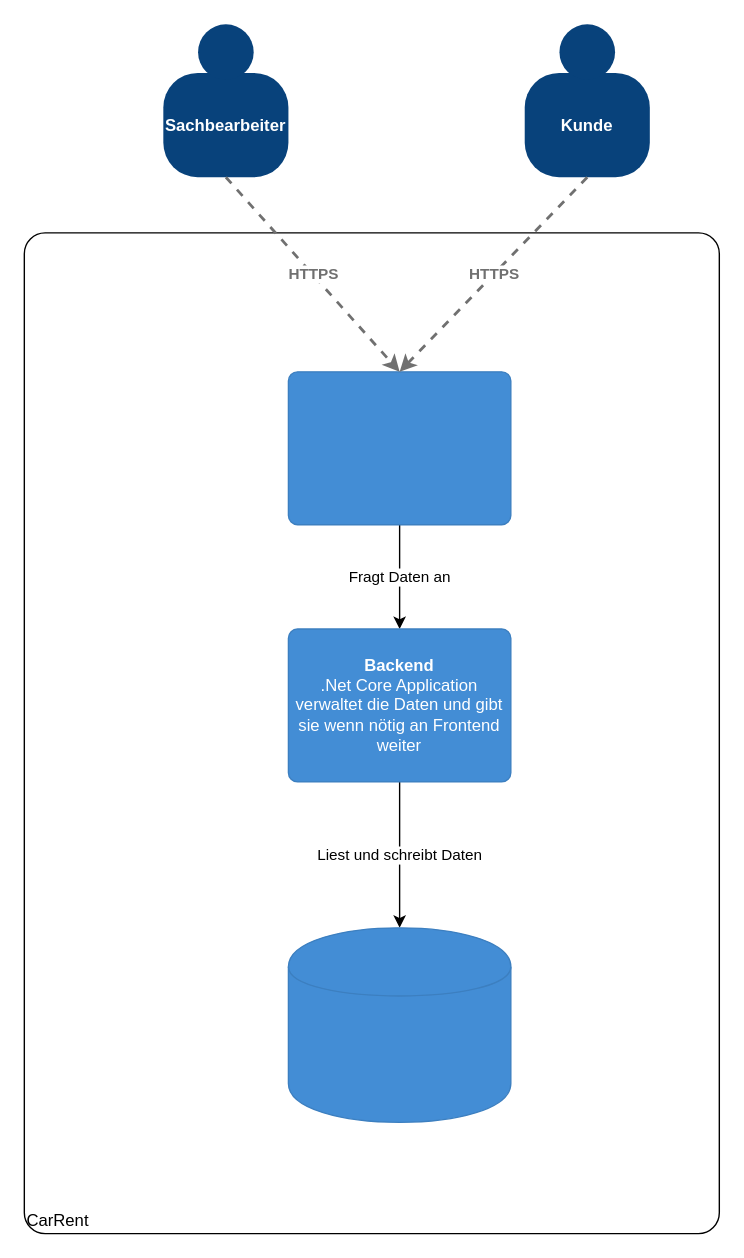
Some shapes in this 744 by 1258 pixel diagram are drawn without their labels. Here are the shapes that lost their labels. From the top down, the centre of each, then its label:
the point at 399,447: Frontend [Container: Angular ] GUI
the point at 399,1024: Database [Container: MySql] Description
